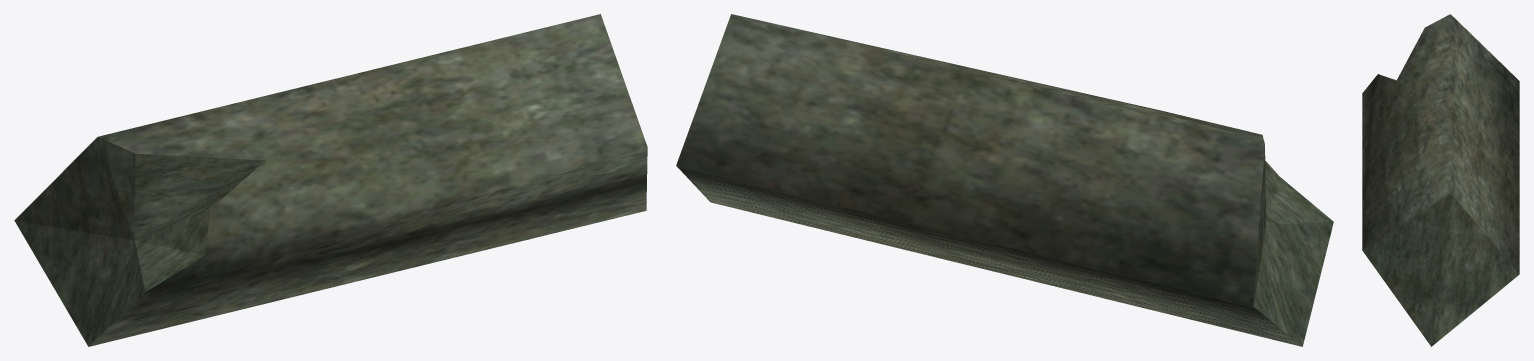
File: thm_dant_jedi_temple_pillar_fallen_l2.fbx
3 renders of one model, left to right at view 1: azimuth 30°, elevation 25°; view 2: azimuth 150°, elevation 25°; view 3: azimuth 270°, elevation 25°, orthographic. The views are drawn at different scales.
Parts seen in each view (by area): view 1: mesh_node; view 2: mesh_node; view 3: mesh_node.
Part boxes in pixels (x1,y1,x2,y2): mesh_node: [14, 14, 647, 346]; mesh_node: [676, 14, 1333, 346]; mesh_node: [1362, 14, 1519, 346].
Size of the model in its own units: 2.82 by 0.919 by 0.9189.
Materials: 1 (1 with a texture image).
